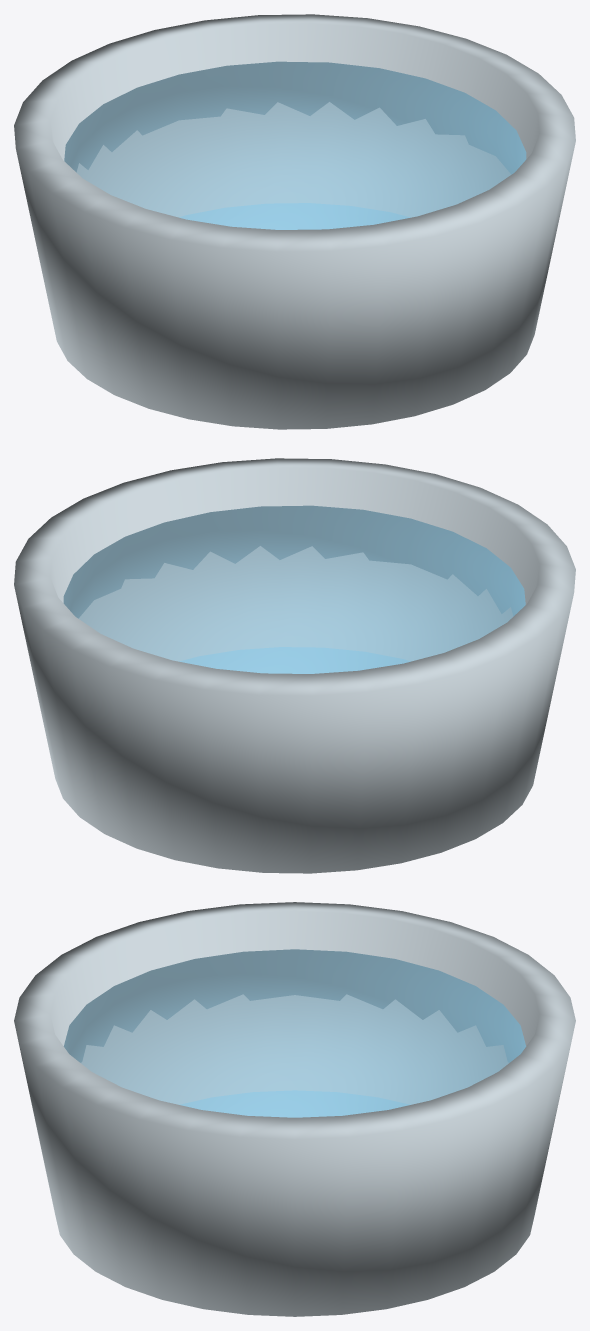
Rendered from water_bowl.glb.
3 views of the same model, one above another, from view 1: azimuth 30°, elevation 25°; view 2: azimuth 150°, elevation 25°; view 3: azimuth 270°, elevation 25° (orthographic).
Visible parts, largest first — view 1: water_bowl_body, water_liquid; view 2: water_bowl_body, water_liquid; view 3: water_bowl_body, water_liquid.
Part boxes in pixels (bbox=[...]): water_bowl_body: bbox=[14, 14, 575, 429]; water_liquid: bbox=[64, 61, 526, 229]; water_bowl_body: bbox=[14, 458, 575, 873]; water_liquid: bbox=[63, 505, 525, 673]; water_bowl_body: bbox=[14, 902, 575, 1316]; water_liquid: bbox=[64, 949, 525, 1117].
Size of the model in its own units: 0.068 by 0.0268 by 0.068.
